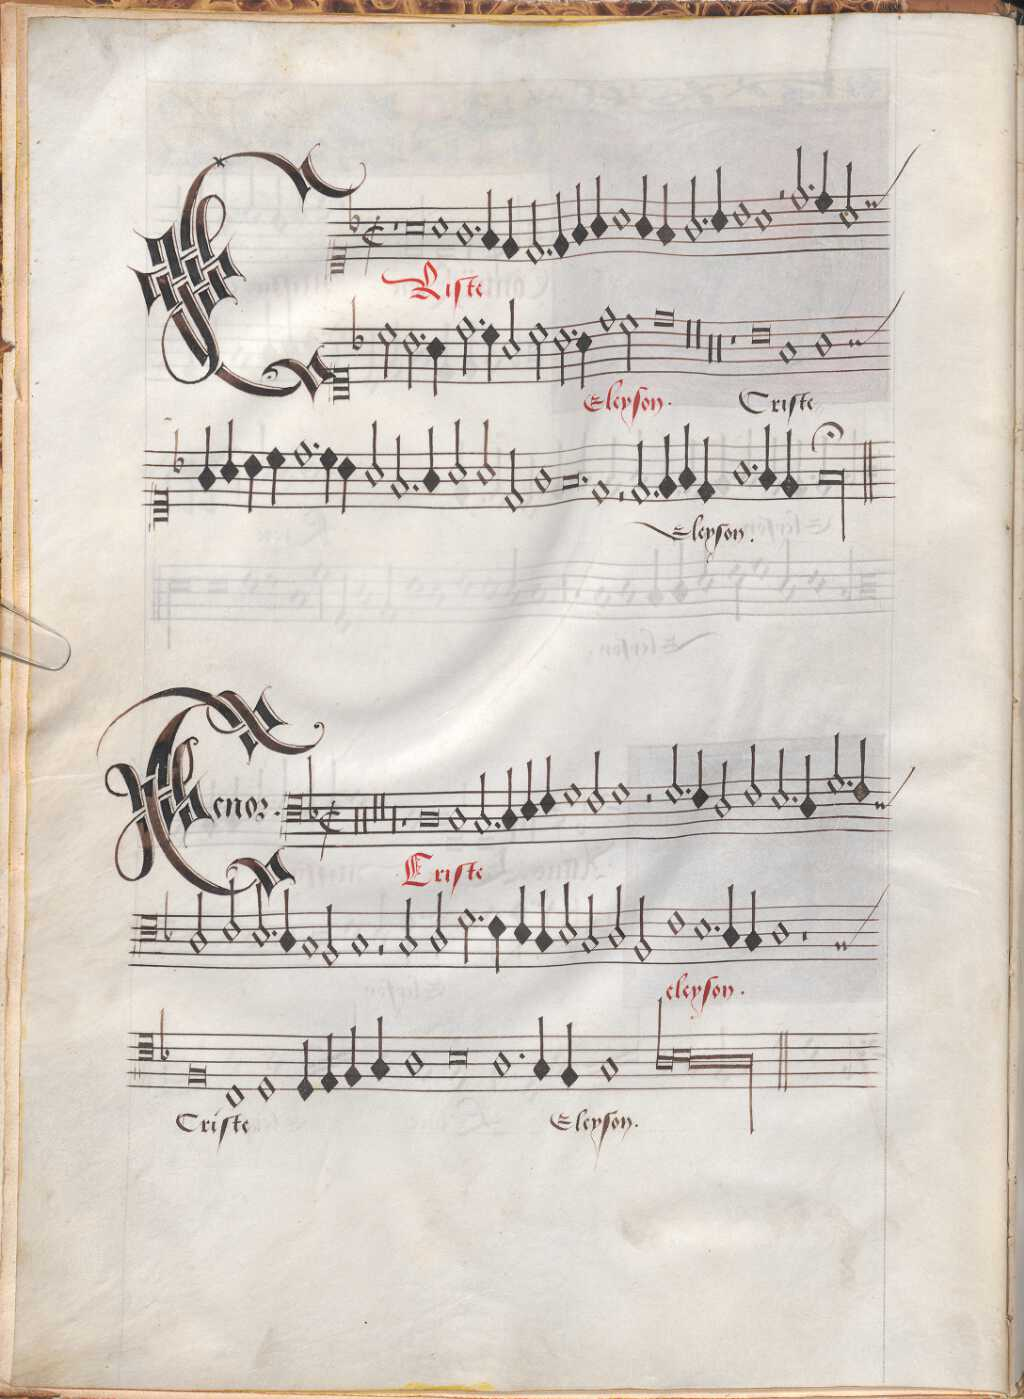barline: (771, 1020, 794, 1102)
breve_6: (442, 1036, 475, 1077)
breve_9: (181, 1054, 215, 1097)
c clef_5: (132, 1019, 157, 1071)
flat_6: (153, 1006, 173, 1073)
l1semibreve_7: (649, 996, 674, 1077)
l2longa_7: (688, 1034, 751, 1154)
l2semibreve_6: (669, 1044, 691, 1070)
point: (511, 1039, 531, 1068)
semibreve_11: (253, 1067, 280, 1110)
semibreve_12: (222, 1071, 249, 1116)
semibreve_7: (399, 1039, 428, 1087), (488, 1039, 511, 1088)
semibreve_8: (595, 1048, 623, 1089)
semiminim_10: (319, 1025, 340, 1102)
semiminim_11: (293, 1030, 316, 1110)
semiminim_8: (530, 1013, 554, 1093), (370, 1010, 392, 1091)
semiminim_9: (558, 1013, 582, 1099), (344, 1020, 365, 1098)
